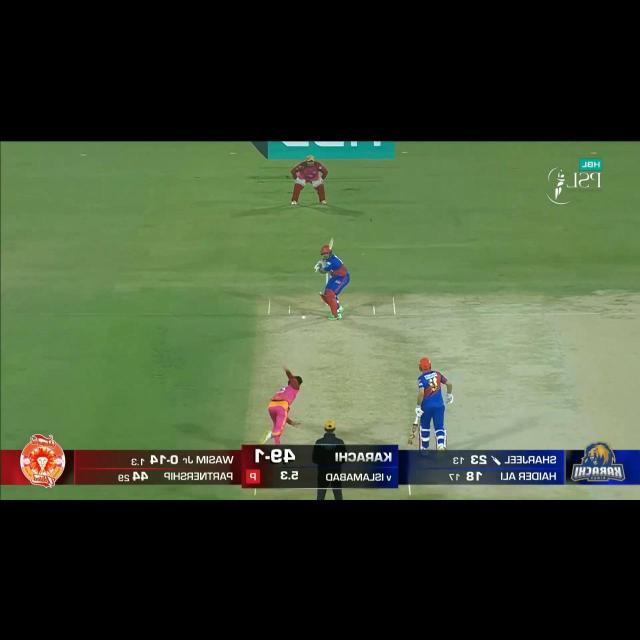bat: (406, 424, 416, 449), (330, 238, 336, 250)
toe: (329, 238, 336, 244)
